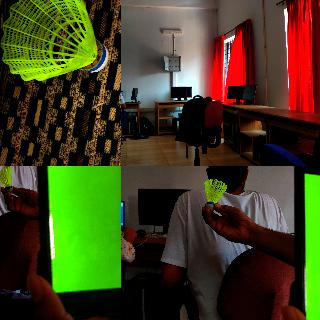shuttlecock: (1, 0, 109, 83), (203, 180, 225, 212), (0, 166, 14, 193)
